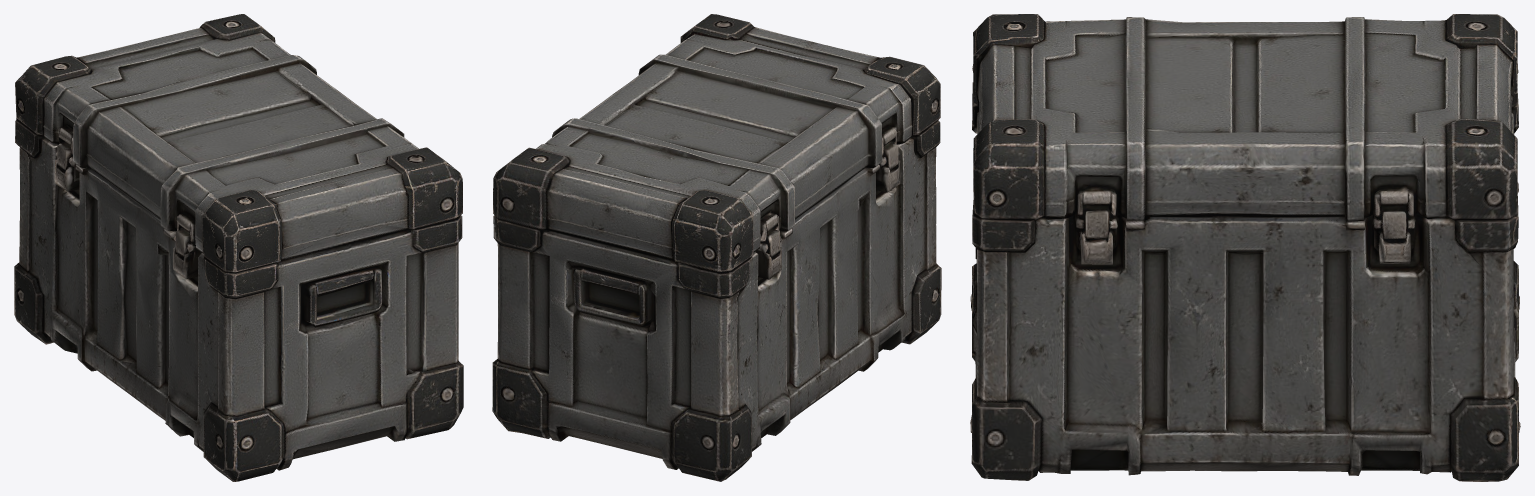
File: PROP-CARGO.glb
3 views of the same model, side by side, from view 1: azimuth 30°, elevation 25°; view 2: azimuth 150°, elevation 25°; view 3: azimuth 270°, elevation 25° (orthographic). The views are drawn at different scales.
Parts seen in each view (by area): view 1: tripo_node_72ca2db1-f3d0-4a3b-9555-3a8be0109392; view 2: tripo_node_72ca2db1-f3d0-4a3b-9555-3a8be0109392; view 3: tripo_node_72ca2db1-f3d0-4a3b-9555-3a8be0109392.
Boxes of the visible parts, x1,y1,x2,y2 form: tripo_node_72ca2db1-f3d0-4a3b-9555-3a8be0109392: (14,14,463,481); tripo_node_72ca2db1-f3d0-4a3b-9555-3a8be0109392: (492,14,941,481); tripo_node_72ca2db1-f3d0-4a3b-9555-3a8be0109392: (970,14,1520,481).
Size of the model in its own units: 0.6307 by 0.6788 by 1.
1 material, 1 textured.
